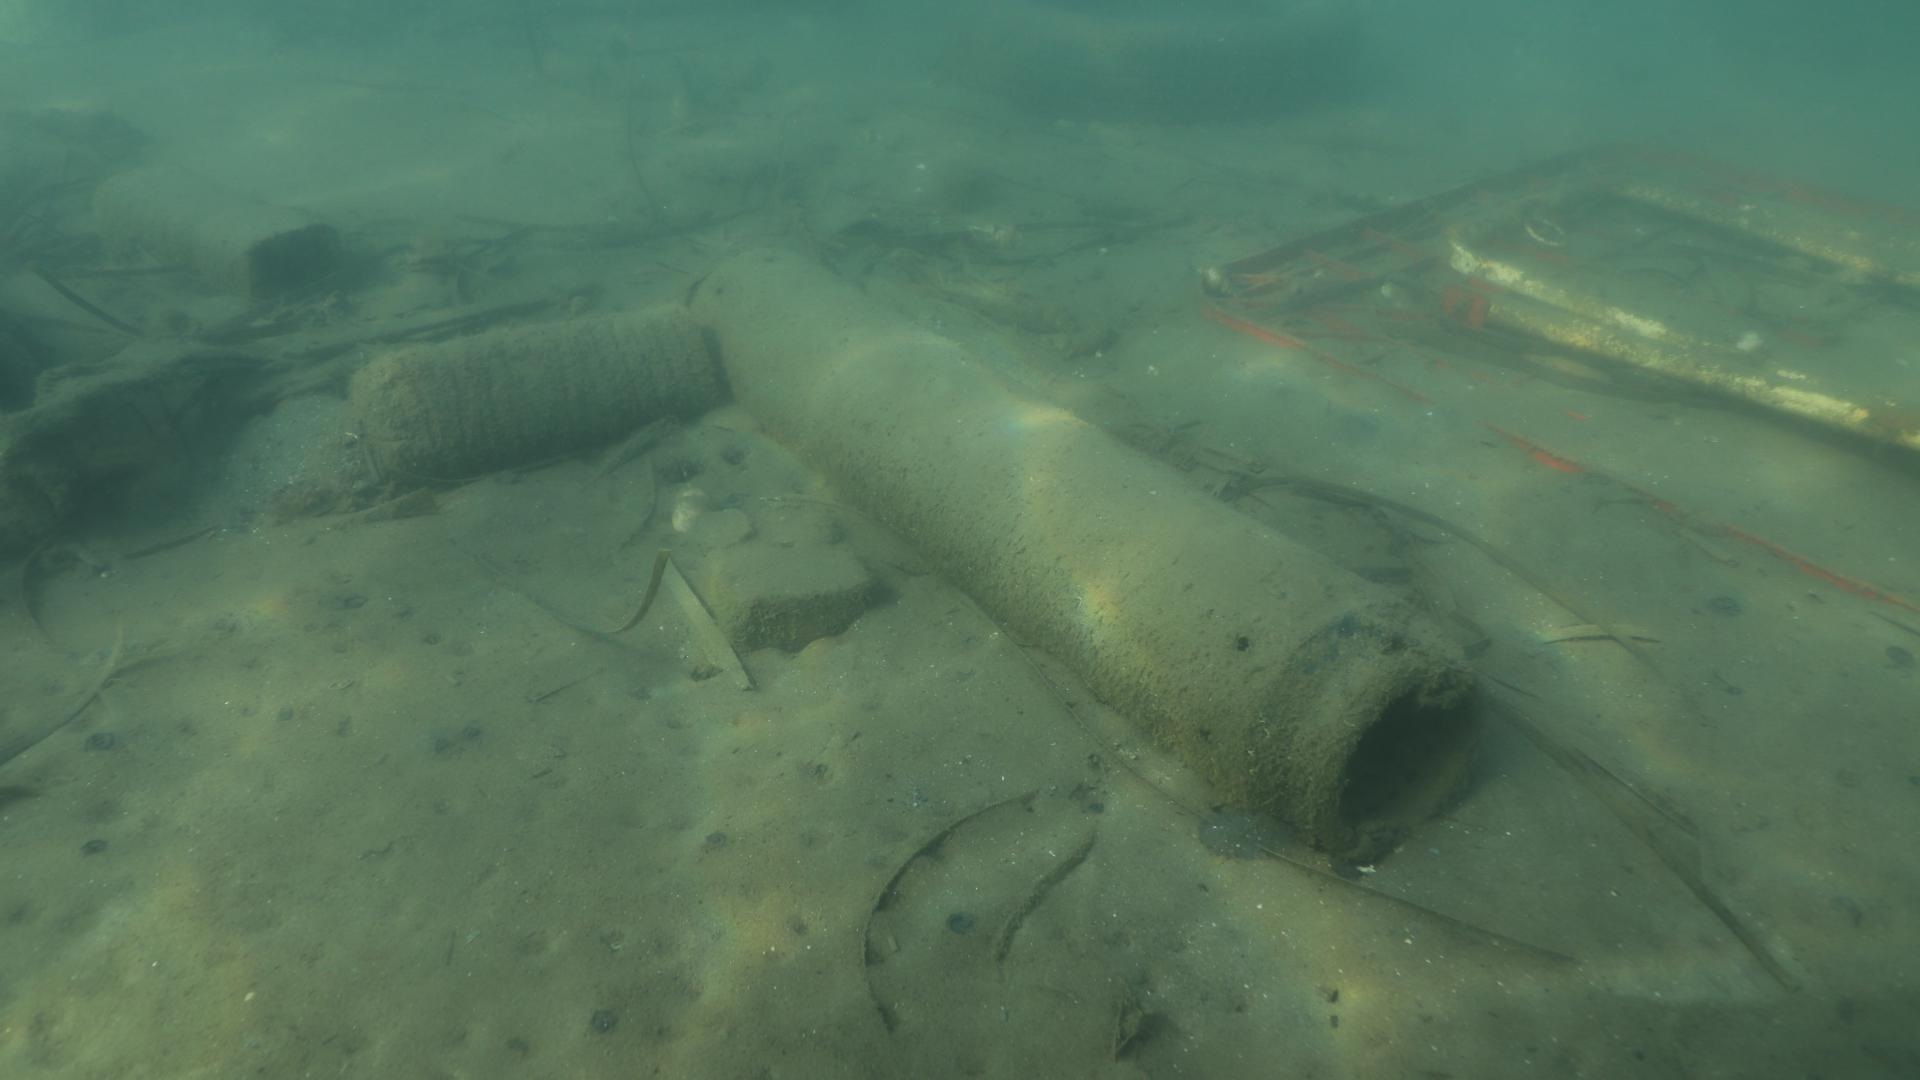eel fish trap: (684, 243, 1484, 870)
